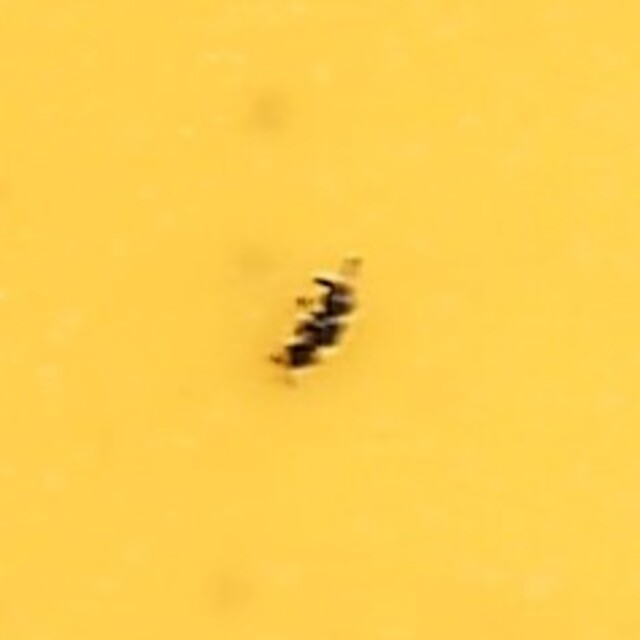Hymenoptera: (270, 262, 370, 378)
